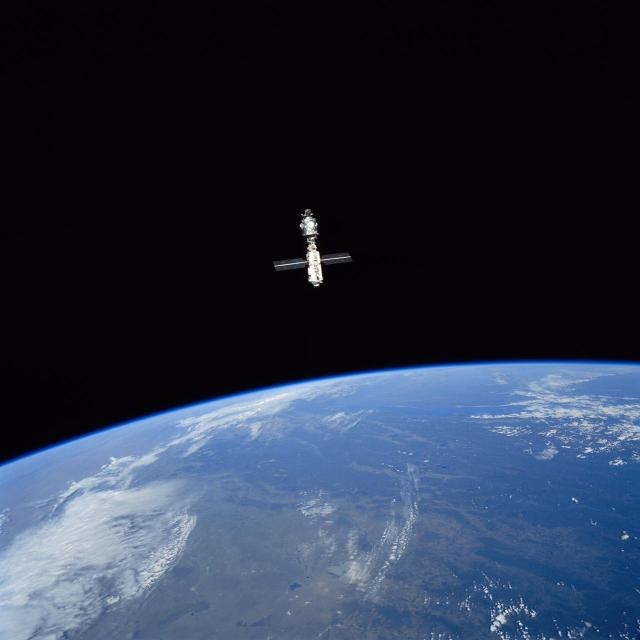medium_debris: (273, 209, 352, 286)
